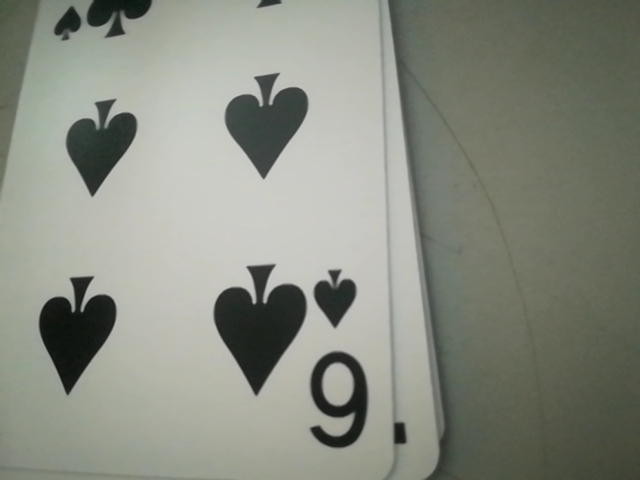ht 6: (302, 260, 375, 461)
